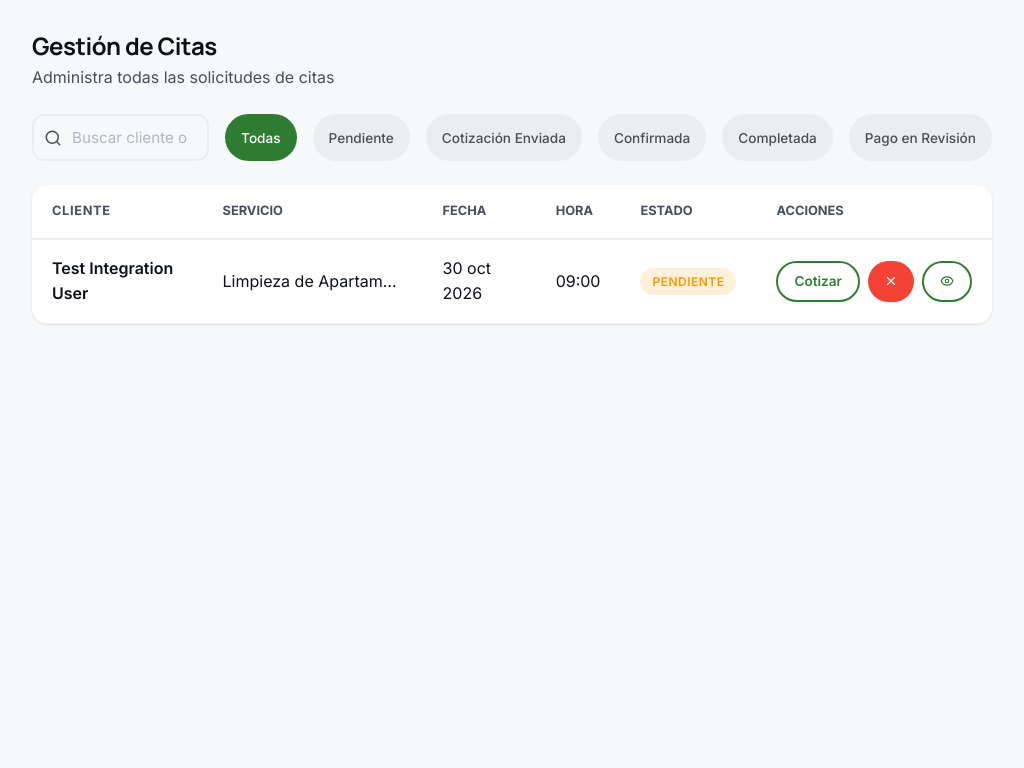
Test: Admin Integration Flow: Appointment -> Quotation › debe navegar desde la lista de citas hacia el creador de cotizaciones con los datos correctos
expect the text "Test Integration User" is shown: met, box 32,239 -> 203,324
// Hacer clic en el botón "Cotizar"
Step 1. Click the link titled "Crear Cotización" → (818, 282), box 776,261 -> 860,302
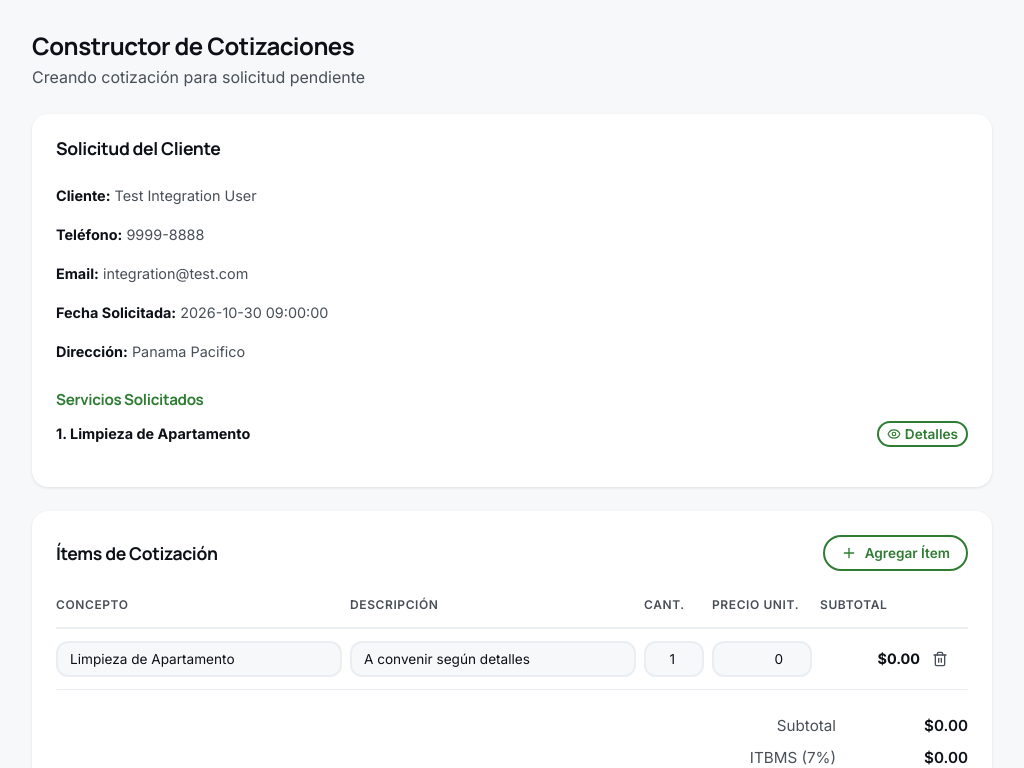
expect the heading "Constructor de Cotizaciones" is shown: met, box 32,29 -> 354,62
expect the text "Test Integration User" is shown: met, box 115,186 -> 257,204
expect the text "integration@test.com" is shown: met, box 103,265 -> 248,282
